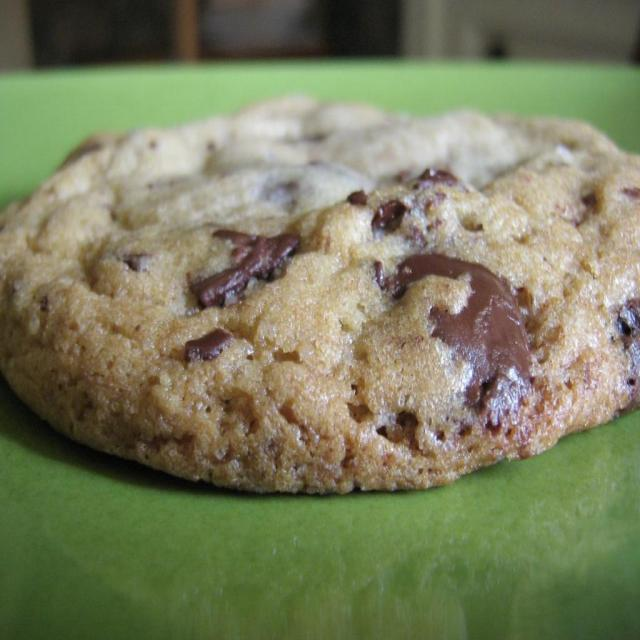Cookie: (0, 96, 639, 502)
